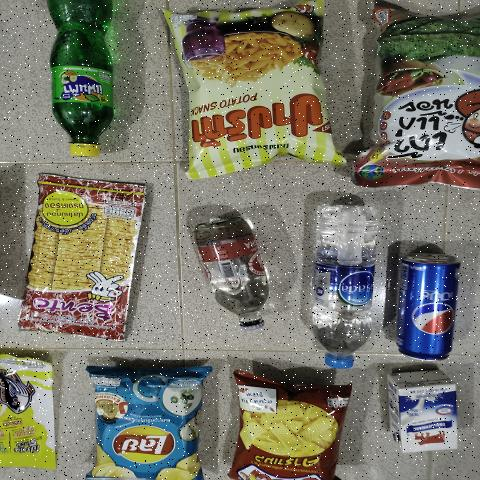bento_red: (15, 175, 140, 345)
crystal: (312, 198, 374, 370)
fanta_green: (40, 0, 117, 158)
lay_blue: (97, 374, 199, 480)
paprika: (174, 8, 338, 163)
party_red: (225, 392, 351, 480)
pepsi_blue: (404, 254, 462, 368)
singha_soda: (185, 208, 272, 335)
taokaenoi: (358, 2, 480, 181)
thai_denmark: (386, 372, 458, 457)
